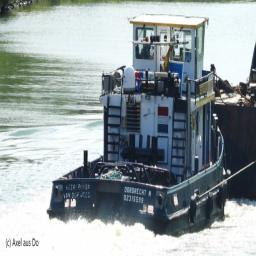tugboat: (47, 13, 231, 242)
